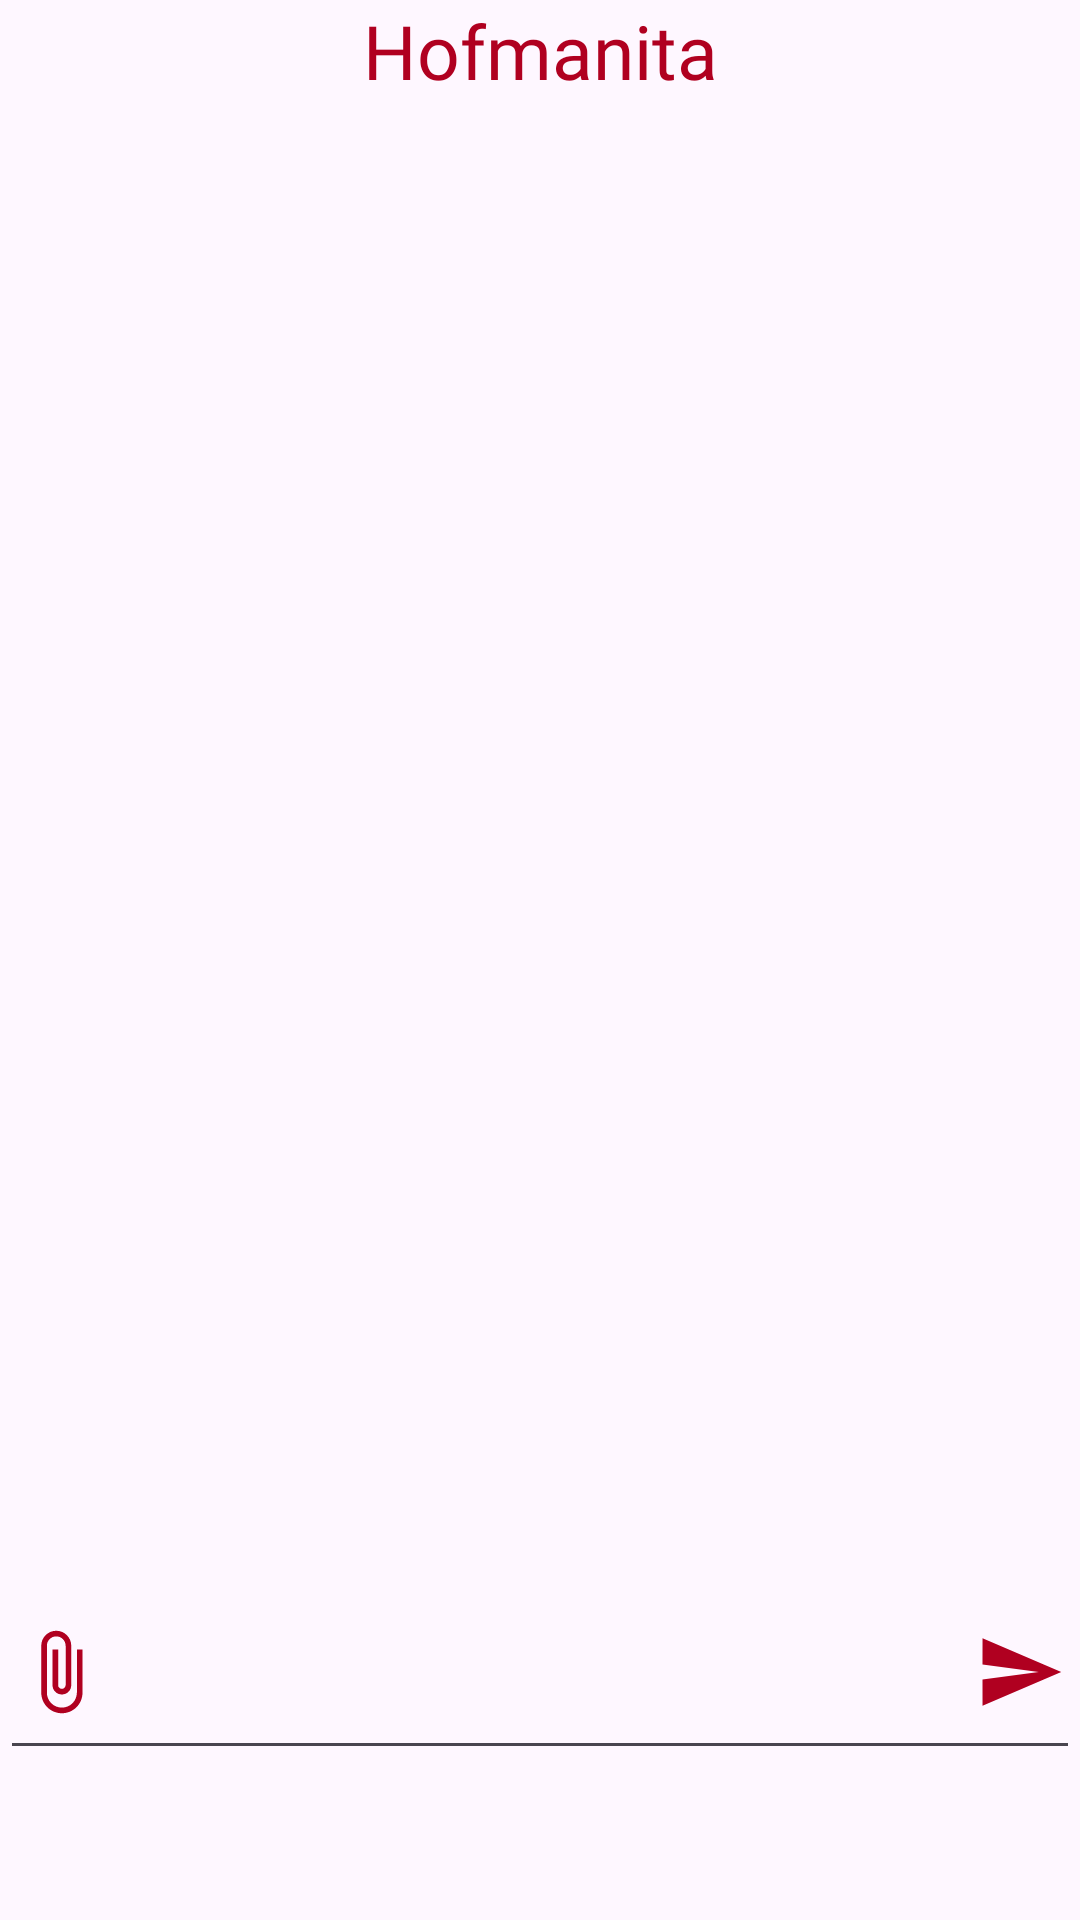

Icon bounding boxes for this 1080 x 1920 phone screenshot, format (x1,y1,x2,y2):
attach file: (41,1630,83,1714)
send: (982,1638,1061,1706)
